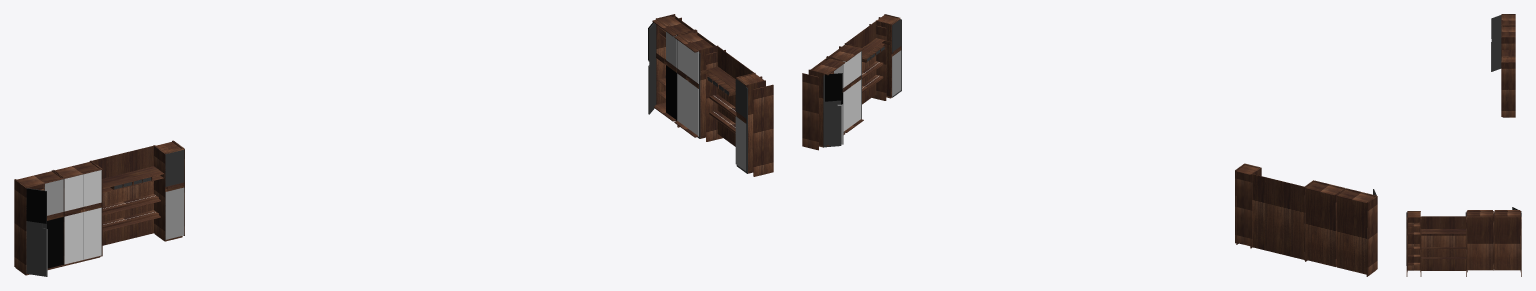
The model's file is Cupboard_draco.glb.
3 renders of one model, left to right at view 1: azimuth 30°, elevation 25°; view 2: azimuth 150°, elevation 25°; view 3: azimuth 270°, elevation 25°, orthographic. The views are drawn at different scales.
Visible parts, largest first — view 1: perfils 3.001, My Closet By Porada.002, Cube.043, Cube.095, perfils 2.002, Cube.089, Cube.067, Cube.103, Cube.101, Obj_000021.003, Obj_000021.004, Cube.093 (+14 smaller); view 2: Obj_000111.004, Obj_000111.002, My Closet By Porada.002, Cube.043, perfils 2.001, Cube.083, Cube.053, perfils 2.002, My Closet By Porada.001, Obj_000021.001, Cube.051, Cube.066 (+4 smaller); view 3: Obj_000111.003, Obj_000111.001, My Closet By Porada.001, Cube.067, perfils 3.002, Cube.095, Cube.065, Obj_000021.002, Obj_000114.003, Obj_000114.001, Obj_000114.002, Obj_000114.004 (+9 smaller).
Boxes of the visible parts, left/top/right/bottom form: perfils 3.001: left=753, top=84, right=773, bottom=176; My Closet By Porada.002: left=123, top=145, right=153, bottom=240; Cube.043: left=92, top=153, right=122, bottom=245; Cube.095: left=26, top=188, right=46, bottom=276; perfils 2.002: left=14, top=179, right=26, bottom=274; Cube.089: left=165, top=187, right=184, bottom=239; Cube.067: left=717, top=46, right=735, bottom=146; Cube.103: left=64, top=212, right=82, bottom=264; Cube.101: left=83, top=207, right=101, bottom=259; Obj_000021.003: left=153, top=145, right=165, bottom=240; Obj_000021.004: left=706, top=50, right=725, bottom=141; Cube.093: left=47, top=217, right=63, bottom=268; Obj_000111.004: left=1305, top=189, right=1335, bottom=265; Obj_000111.002: left=1337, top=196, right=1366, bottom=273; My Closet By Porada.002: left=1252, top=174, right=1278, bottom=253; Cube.043: left=1278, top=180, right=1303, bottom=259; perfils 2.001: left=802, top=73, right=818, bottom=150; Cube.083: left=1236, top=172, right=1250, bottom=245; Cube.053: left=823, top=75, right=841, bottom=147; perfils 2.002: left=1367, top=196, right=1377, bottom=275; My Closet By Porada.001: left=861, top=21, right=876, bottom=104; Obj_000021.001: left=869, top=24, right=886, bottom=100; Cube.051: left=825, top=73, right=842, bottom=101; Cube.066: left=876, top=20, right=891, bottom=96; Obj_000111.003: left=1494, top=217, right=1520, bottom=270; Obj_000111.001: left=1467, top=217, right=1492, bottom=270; My Closet By Porada.001: left=1421, top=216, right=1443, bottom=270; Cube.067: left=1443, top=216, right=1465, bottom=270; perfils 3.002: left=1501, top=62, right=1515, bottom=116; Cube.095: left=1491, top=15, right=1501, bottom=71; Cube.065: left=1408, top=217, right=1420, bottom=269; Obj_000021.002: left=1501, top=37, right=1515, bottom=56; Obj_000114.003: left=1494, top=210, right=1520, bottom=216; Obj_000114.001: left=1467, top=210, right=1492, bottom=216; Obj_000114.002: left=1502, top=15, right=1515, bottom=25; Obj_000114.004: left=1502, top=26, right=1515, bottom=36.
Bounding box in the file's own units: 114 × 15.11 × 27.24.
7 materials, 1 textured.
